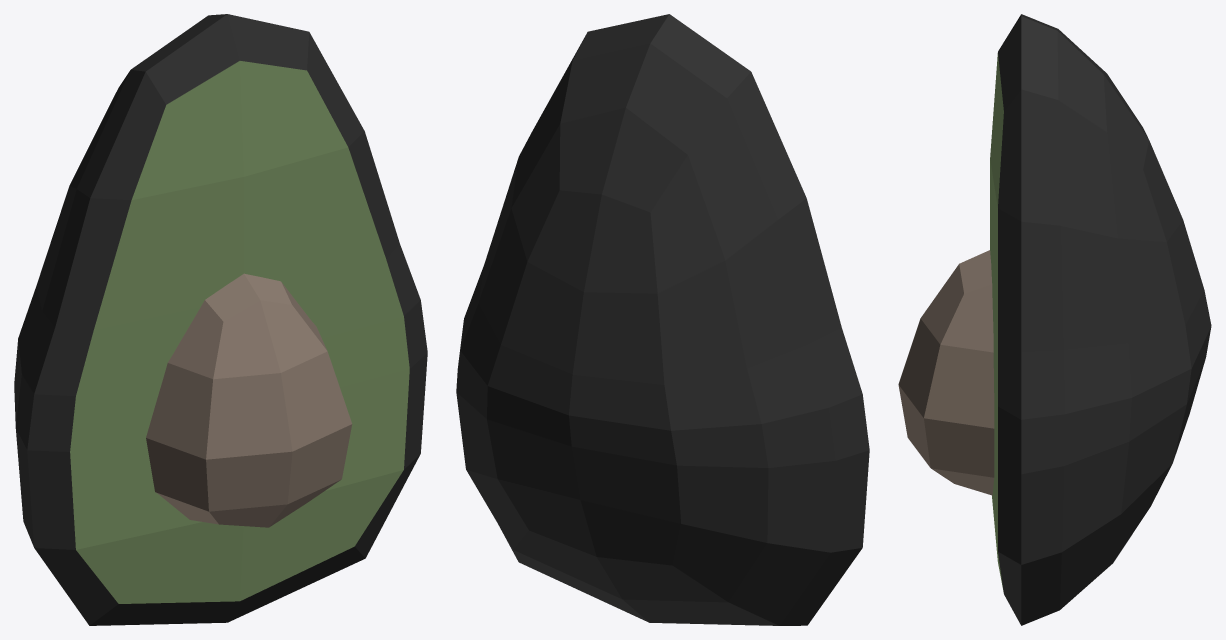
The model's file is Avocado.obj.
3 renders of one model, left to right at view 1: azimuth 30°, elevation 25°; view 2: azimuth 150°, elevation 25°; view 3: azimuth 270°, elevation 25°, orthographic. The views are drawn at different scales.
Parts seen in each view (by area): view 1: mesh_1, mesh_0, mesh_2; view 2: mesh_0; view 3: mesh_0, mesh_2, mesh_1.
Part boxes in pixels (box(x1,y1,x2,y2)): mesh_1: box(70, 61, 409, 603); mesh_0: box(14, 14, 427, 625); mesh_2: box(146, 273, 352, 527); mesh_0: box(456, 14, 869, 625); mesh_0: box(998, 14, 1211, 625); mesh_2: box(898, 250, 994, 495); mesh_1: box(990, 53, 1003, 591).
Bounding box in the file's own units: 0.7531 × 1.09 × 0.5398.
